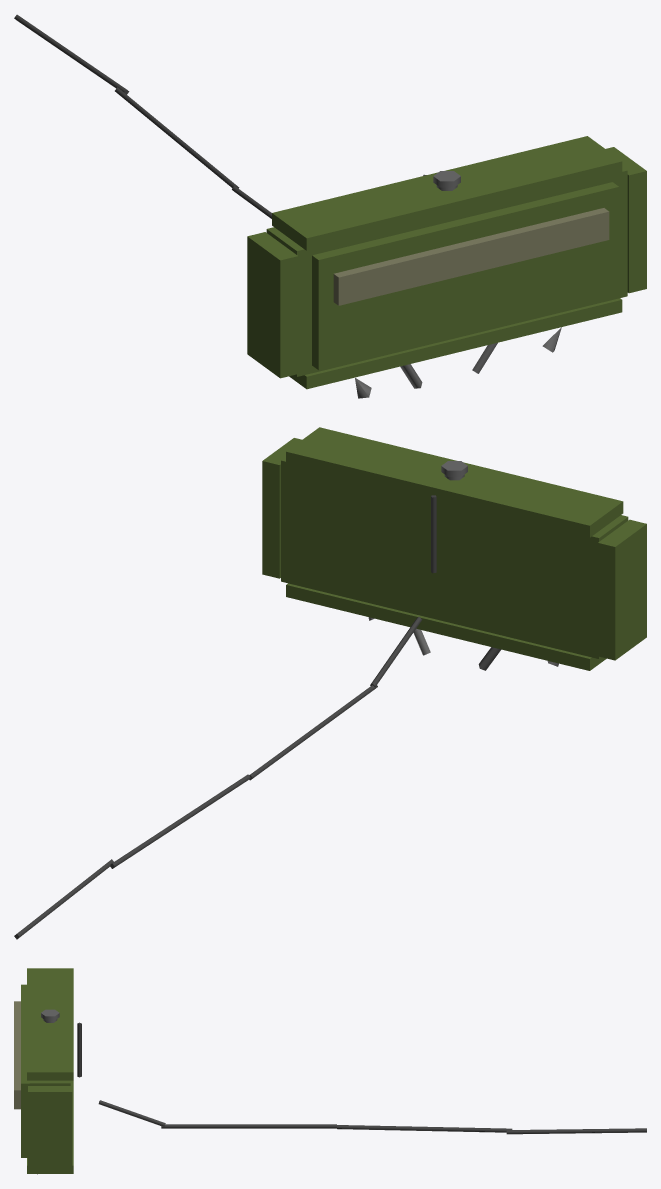
File: claymore-mine.glb
3 renders of one model, top to bottom at view 1: azimuth 30°, elevation 25°; view 2: azimuth 150°, elevation 25°; view 3: azimuth 270°, elevation 25°, orthographic. The views are drawn at different scales.
Visible parts, largest first — view 1: Mesh_FrontFace, Mesh_TopRidge, Mesh_TextStrip, Mesh_SideCapL, Mesh_Body, Mesh_BottomRidge, Mesh_SideCapR, Mesh_WireGround2, Mesh_WireGround3; view 2: Mesh_Body, Mesh_TopRidge, Mesh_SideCapL, Mesh_BottomRidge, Mesh_SideCapR, Mesh_WireGround2, Mesh_WireGround1; view 3: Mesh_TopRidge, Mesh_SideCapR, Mesh_FrontFace, Mesh_WireGround1, Mesh_WireGround2, Mesh_TextStrip, Mesh_WireGround3, Mesh_BottomRidge, Mesh_WireAngle.
Part boxes in pixels (<box>): Mesh_FrontFace: <box>312,182,618,370</box>; Mesh_TopRidge: <box>272,136,622,250</box>; Mesh_TextStrip: <box>333,208,609,305</box>; Mesh_SideCapL: <box>247,232,298,378</box>; Mesh_Body: <box>266,167,627,376</box>; Mesh_BottomRidge: <box>289,298,622,389</box>; Mesh_SideCapR: <box>606,147,646,293</box>; Mesh_WireGround2: <box>115,87,239,188</box>; Mesh_WireGround3: <box>14,14,129,94</box>; Mesh_Body: <box>281,457,628,658</box>; Mesh_TopRidge: <box>286,427,623,537</box>; Mesh_SideCapL: <box>598,519,646,660</box>; Mesh_BottomRidge: <box>286,583,606,670</box>; Mesh_SideCapR: <box>262,438,301,578</box>; Mesh_WireGround2: <box>110,774,250,868</box>; Mesh_WireGround1: <box>249,685,377,780</box>; Mesh_TopRidge: <box>27,968,73,1080</box>; Mesh_SideCapR: <box>28,1086,72,1171</box>; Mesh_FrontFace: <box>21,984,29,1157</box>; Mesh_WireGround1: <box>161,1124,336,1128</box>; Mesh_WireGround2: <box>337,1125,512,1132</box>; Mesh_TextStrip: <box>14,1001,20,1109</box>; Mesh_WireGround3: <box>506,1128,646,1134</box>; Mesh_BottomRidge: <box>27,1080,73,1173</box>; Mesh_WireAngle: <box>98,1100,165,1126</box>.
Bounding box in the file's own units: 0.244 × 0.1303 × 0.541.
